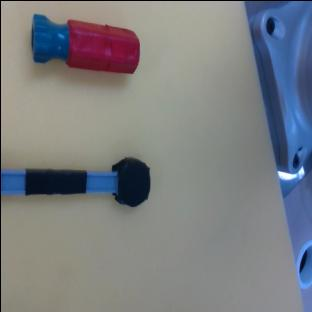part_2_good: (25, 12, 143, 76)
part_3_bad: (0, 145, 152, 208)
